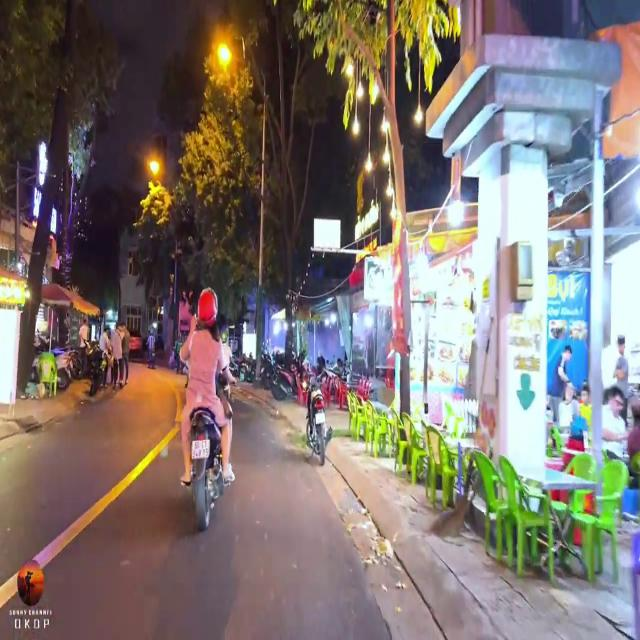bien_trang: (188, 438, 211, 458)
